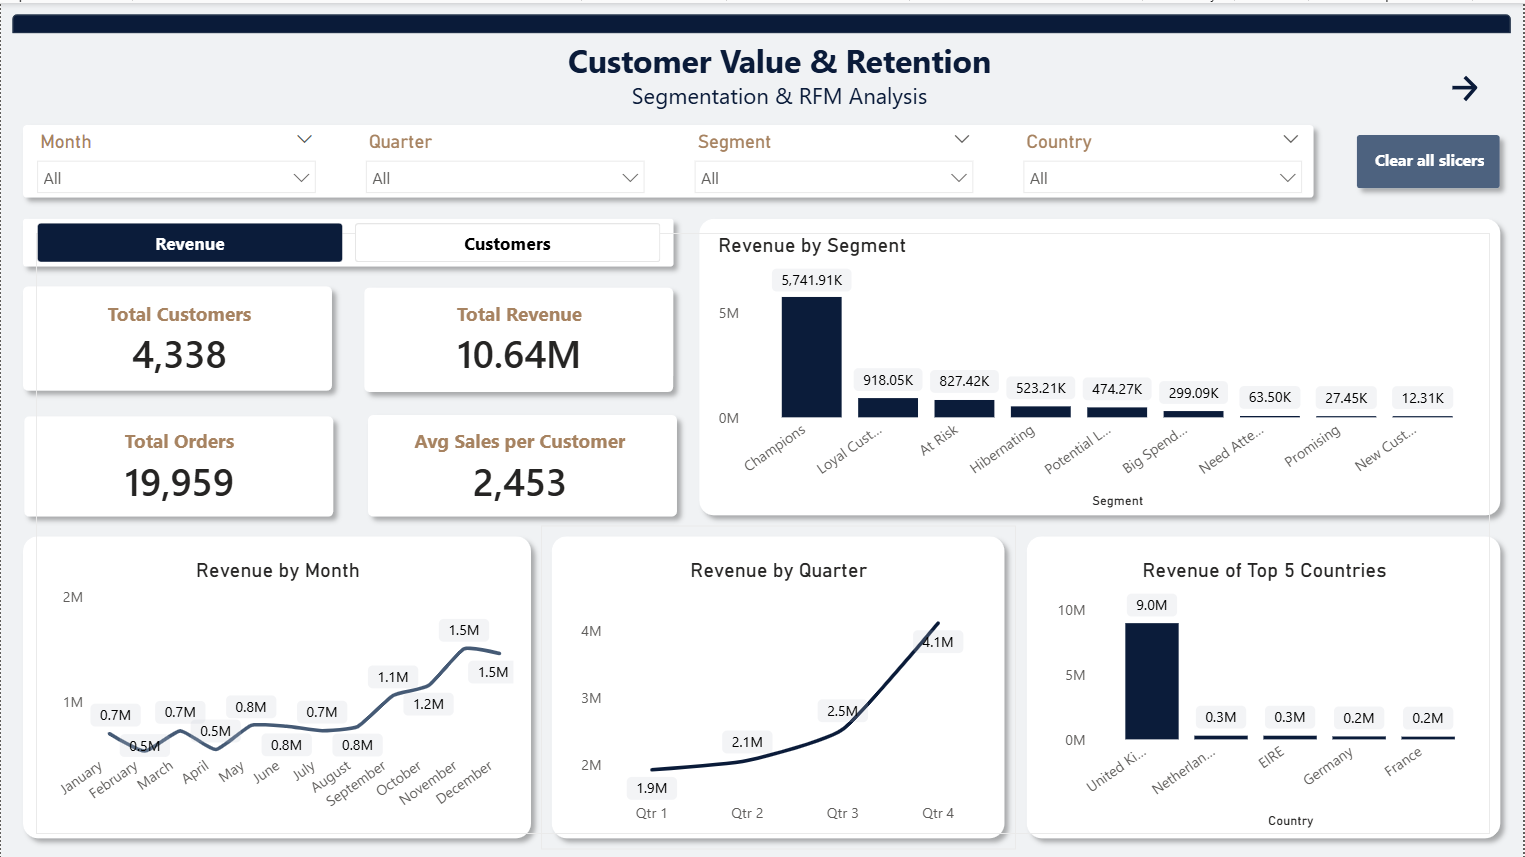

The dashboard page shown, as its layout file describes it:
{"tool":"powerbi","page":{"name":"Overview","canvas":[1280,720],"ordinal":0},"visuals":[{"type":"shape","box":[9.3,94,1103.5,79.1],"z":0,"group":"g5"},{"type":"shape","box":[1131.4,102.3,138.4,62.8],"z":0,"group":"g4"},{"type":"slicer","fields":{"Values":["MonthlySales.Month.Variation.Date Hierarchy.Month"]},"box":[19.8,103.2,255.1,61.9],"z":0,"group":"g1"},{"type":"shape","box":[9.3,229.1,277.9,105.9],"z":0,"group":"g2"},{"type":"shape","box":[10.5,338.2,277.9,102.5],"z":0,"group":"g3"},{"type":"shape","box":[853.5,439.5,416.3,272.1],"z":0},{"type":"clusteredColumnChart","title":"Customers of Top 5 Countries","fields":{"Category":["SalesTransactions.Country"],"Y":["CountNonNull(SalesTransactions.CustomerID)"]},"box":[873.2,466.3,380.2,232.6],"z":0,"group":"g6"},{"type":"group","id":"g1","title":"Group 1","box":[19.8,103.2,1084.7,61.9],"z":1000,"group":"g5"},{"type":"slicer","fields":{"Values":["MonthlySales.Month.Variation.Date Hierarchy.Quarter"]},"box":[296.4,103.2,255.1,61.9],"z":1000,"group":"g1"},{"type":"actionButton","box":[1141.4,105.4,119.8,52.3],"z":1000,"group":"g4"},{"type":"cardVisual","fields":{"Data":["CustomerRFM.Total Customers"]},"box":[30.2,230.3,239.5,104.7],"z":1000,"group":"g2"},{"type":"cardVisual","fields":{"Data":["CustomerRFM.One-Time Buyers"]},"box":[30.3,338.4,239.5,102.3],"z":1000,"group":"g3"},{"type":"shape","box":[454.7,439.5,398.8,272.1],"z":1000},{"type":"lineChart","title":"Customers by Quarter","fields":{"Category":["MonthlySales.Month.Variation.Date Hierarchy.Quarter"],"Y":["Sum(MonthlySales.Customers)"]},"box":[483.7,466.3,343,232.6],"z":1000,"group":"g6"},{"type":"slicer","fields":{"Values":["CustomerRFM.Segment"]},"box":[573,103.2,255.1,61.9],"z":2000,"group":"g1"},{"type":"shape","box":[296.5,230.1,277.9,105.9],"z":2000,"group":"g2"},{"type":"shape","box":[300,337.2,277.9,103.5],"z":2000,"group":"g3"},{"type":"shape","box":[9.3,439.5,445.4,272.1],"z":2000},{"type":"lineChart","title":"Customers by Month","fields":{"Category":["MonthlySales.Month.Variation.Date Hierarchy.Year","MonthlySales.Month.Variation.Date Hierarchy.Month"],"Y":["Sum(MonthlySales.Customers)"]},"box":[30.2,466.3,407,232.6],"z":2000,"group":"g6"},{"type":"slicer","fields":{"Values":["SalesTransactions.Country"]},"box":[849.4,103.2,255.1,61.9],"z":3000,"group":"g1"},{"type":"shape","box":[577.9,172.1,691.9,267.4],"z":3000},{"type":"lineStackedColumnComboChart","title":"Customers by Segment","fields":{"Category":["CustomerRFM.Segment"],"Y":["CustomerRFM.Total Customers"]},"box":[598.8,193,654.7,236],"z":3000,"group":"g6"},{"type":"cardVisual","fields":{"Data":["CustomerRFM.Total Revenue"]},"box":[316.3,230.3,239.5,104.7],"z":3000,"group":"g2"},{"type":"cardVisual","fields":{"Data":["CustomerRFM.Avg Sales per Customer"]},"box":[305.8,338.4,261.6,102.3],"z":3000,"group":"g3"},{"type":"textbox","box":[447.7,25.6,414,75.6],"z":4000},{"type":"shape","box":[9.3,9.3,1260.5,16.3],"z":5000},{"type":"actionButton","box":[1215.1,57,37.2,30.2],"z":6000},{"type":"shape","box":[9.3,172.1,565.1,58.1],"z":7000},{"type":"group","id":"g2","title":"Group 6","box":[9.3,229.1,565.1,107],"z":8000},{"type":"group","id":"g3","title":"Group 7","box":[10.5,337.2,567.4,103.5],"z":9000},{"type":"group","id":"g4","title":"Group 8","box":[1131.4,102.3,138.4,62.8],"z":10000},{"type":"group","id":"g5","title":"Group 9","box":[9.3,94,1103.5,79.1],"z":11000},{"type":"bookmarkNavigator","box":[30.2,184.9,525.6,33.7],"z":12000},{"type":"group","id":"g6","title":"Customers","box":[30.2,193,1223.3,505.8],"z":14000},{"type":"bookmarkNavigator","box":[30.4,185.1,524.9,33.3],"z":15000}]}

Visuals, with their boxes in screenshot pixels (x1, y1, x2, y2), scaled from the page's 1280x720 canvas onto the 1525x857 screenshot:
shape: 11:112:1326:206
shape: 1348:122:1513:197
slicer - MonthlySales.Month.Variation.Date Hierarchy.Month: 24:123:328:197
shape: 11:273:342:399
shape: 13:403:344:525
shape: 1017:523:1513:847
"Customers of Top 5 Countries" clusteredColumnChart: 1040:555:1493:832
"Group 1" group: 24:123:1316:197
slicer - MonthlySales.Month.Variation.Date Hierarchy.Quarter: 353:123:657:197
actionButton: 1360:125:1503:188
cardVisual - CustomerRFM.Total Customers: 36:274:321:399
cardVisual - CustomerRFM.One-Time Buyers: 36:403:321:525
shape: 542:523:1017:847
"Customers by Quarter" lineChart: 576:555:985:832
slicer - CustomerRFM.Segment: 683:123:987:197
shape: 353:274:684:400
shape: 357:401:689:525
shape: 11:523:542:847
"Customers by Month" lineChart: 36:555:521:832
slicer - SalesTransactions.Country: 1012:123:1316:197
shape: 689:205:1513:523
"Customers by Segment" lineStackedColumnComboChart: 713:230:1493:511
cardVisual - CustomerRFM.Total Revenue: 377:274:662:399
cardVisual - CustomerRFM.Avg Sales per Customer: 364:403:676:525
textbox: 533:30:1027:120
shape: 11:11:1513:30
actionButton: 1448:68:1492:104
shape: 11:205:684:274
"Group 6" group: 11:273:684:400
"Group 7" group: 13:401:689:525
"Group 8" group: 1348:122:1513:197
"Group 9" group: 11:112:1326:206
bookmarkNavigator: 36:220:662:260
"Customers" group: 36:230:1493:832
bookmarkNavigator: 36:220:662:260
